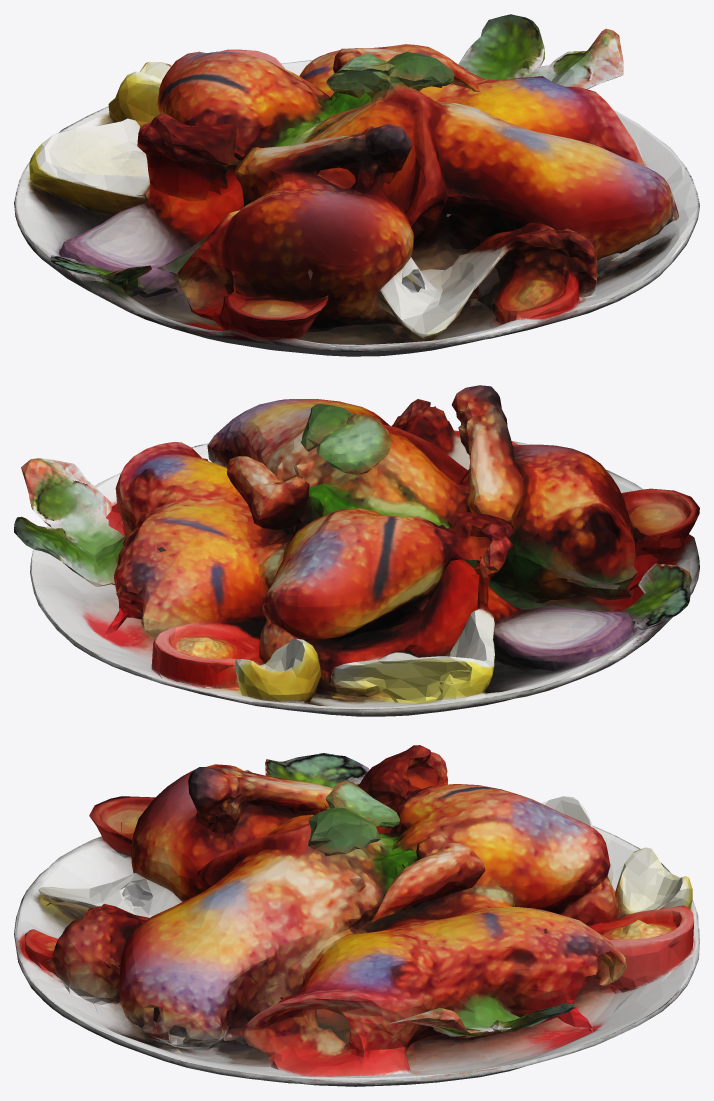
Rendered from tandoori chicken.glb.
3 views of the same model, one above another, from view 1: azimuth 30°, elevation 25°; view 2: azimuth 150°, elevation 25°; view 3: azimuth 270°, elevation 25° (orthographic). The views are drawn at different scales.
Parts seen in each view (by area): view 1: world; view 2: world; view 3: world.
Boxes of the visible parts, x1=… form: world: x1=14, y1=14, x2=699, y2=356; world: x1=14, y1=385, x2=699, y2=716; world: x1=14, y1=745, x2=699, y2=1086.
Bounding box in the file's own units: 0.7205 × 0.2134 × 0.6842.
Materials: 1 (1 with a texture image).
